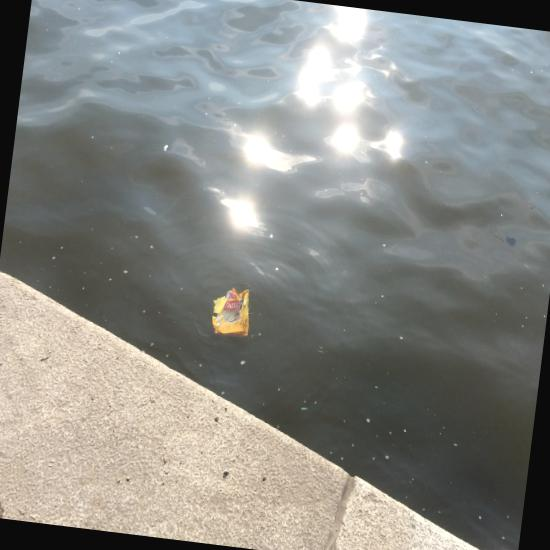Other plastic bottle: (301, 408, 308, 410)
Plastic film: (212, 287, 249, 337)
Unlabeled litter: (317, 350, 323, 353), (320, 347, 322, 349)
